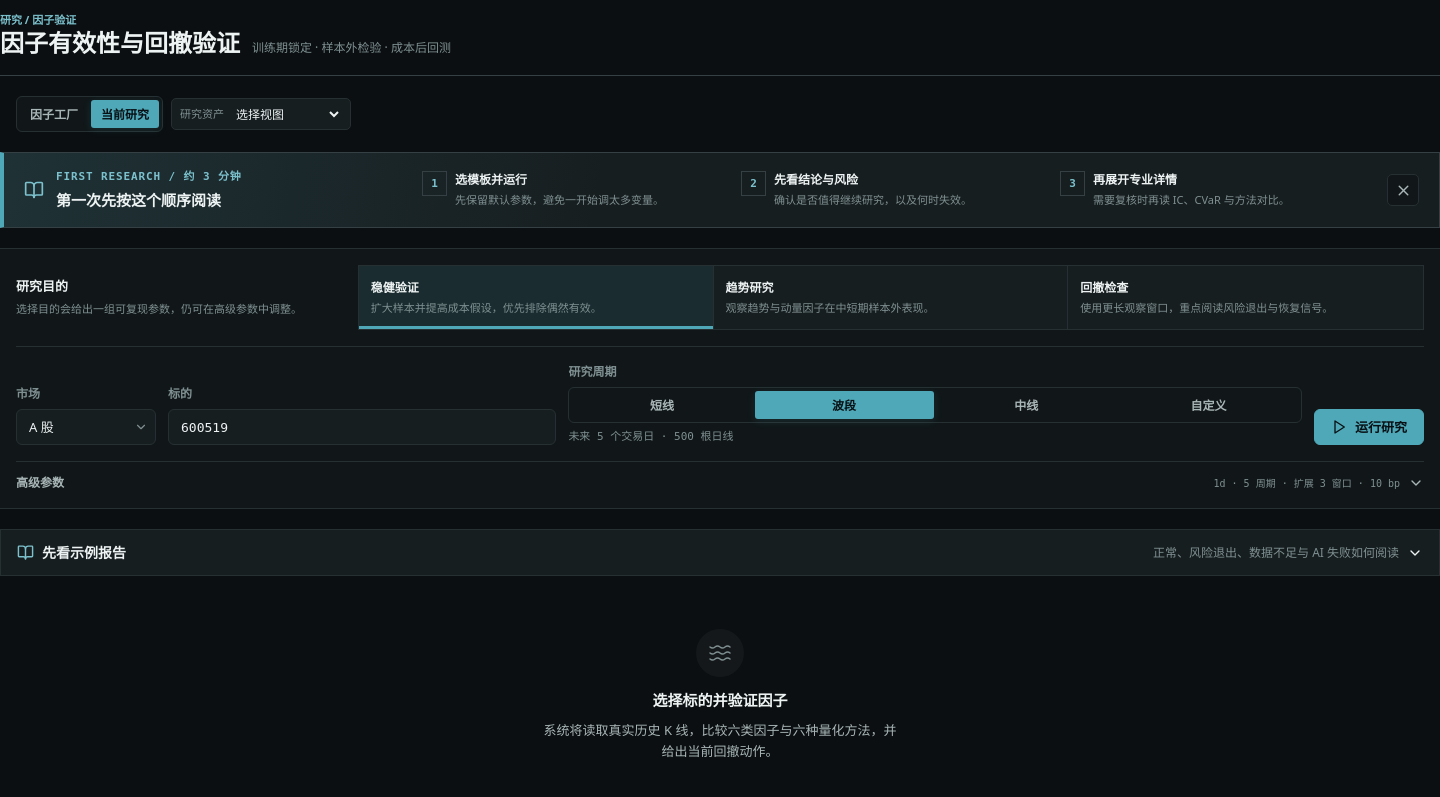
it: FactorResearchPage › lists saved factor runs and restores a complete result
Step 1. Select "历史记录" in the dropdown labelled "研究资产" → x=287, y=114, box left=232, top=104, right=342, bottom=124
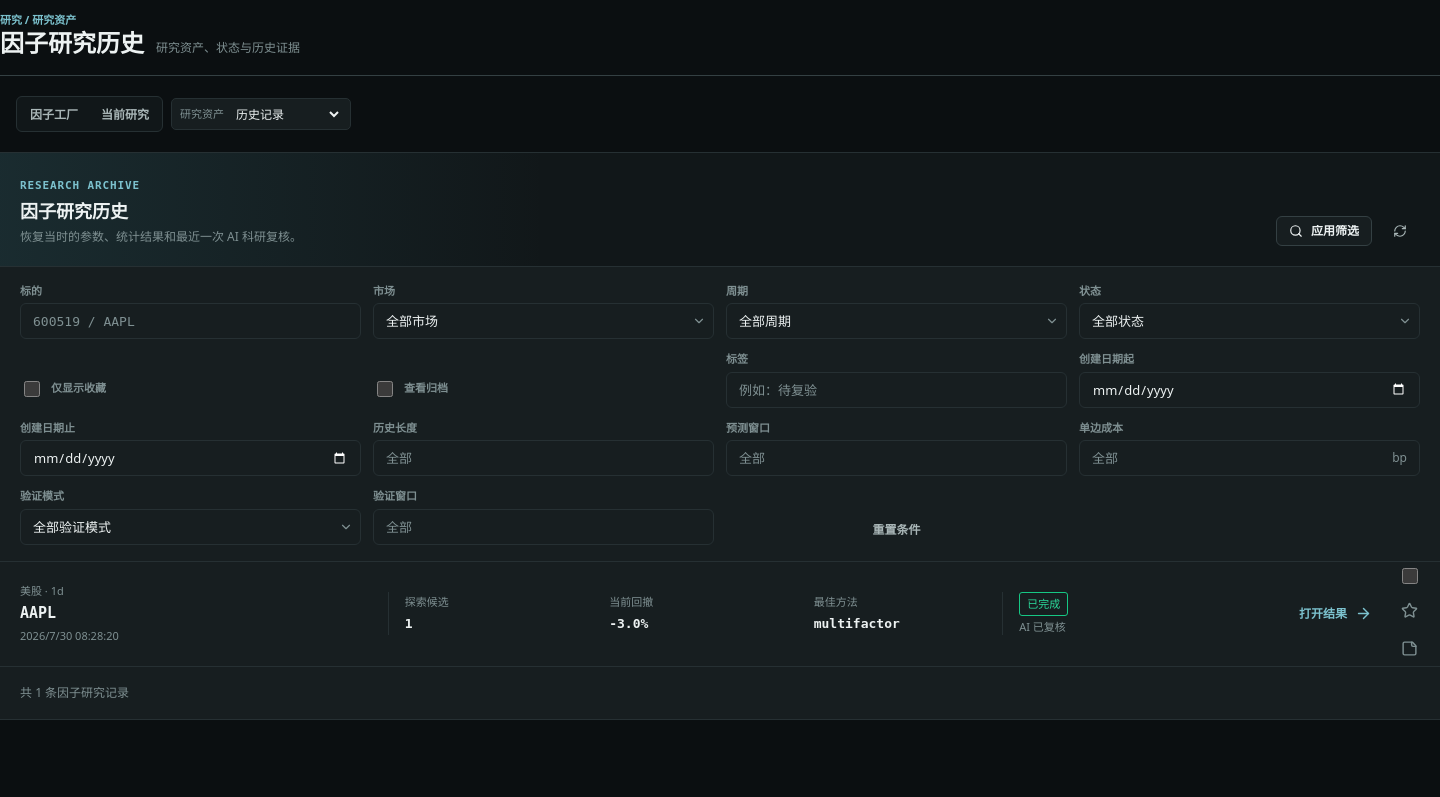
Result: the element named "因子研究历史记录" is shown
Step 2. Click the button that starts with "AAPL" → x=696, y=614, box left=0, top=562, right=1392, bottom=666
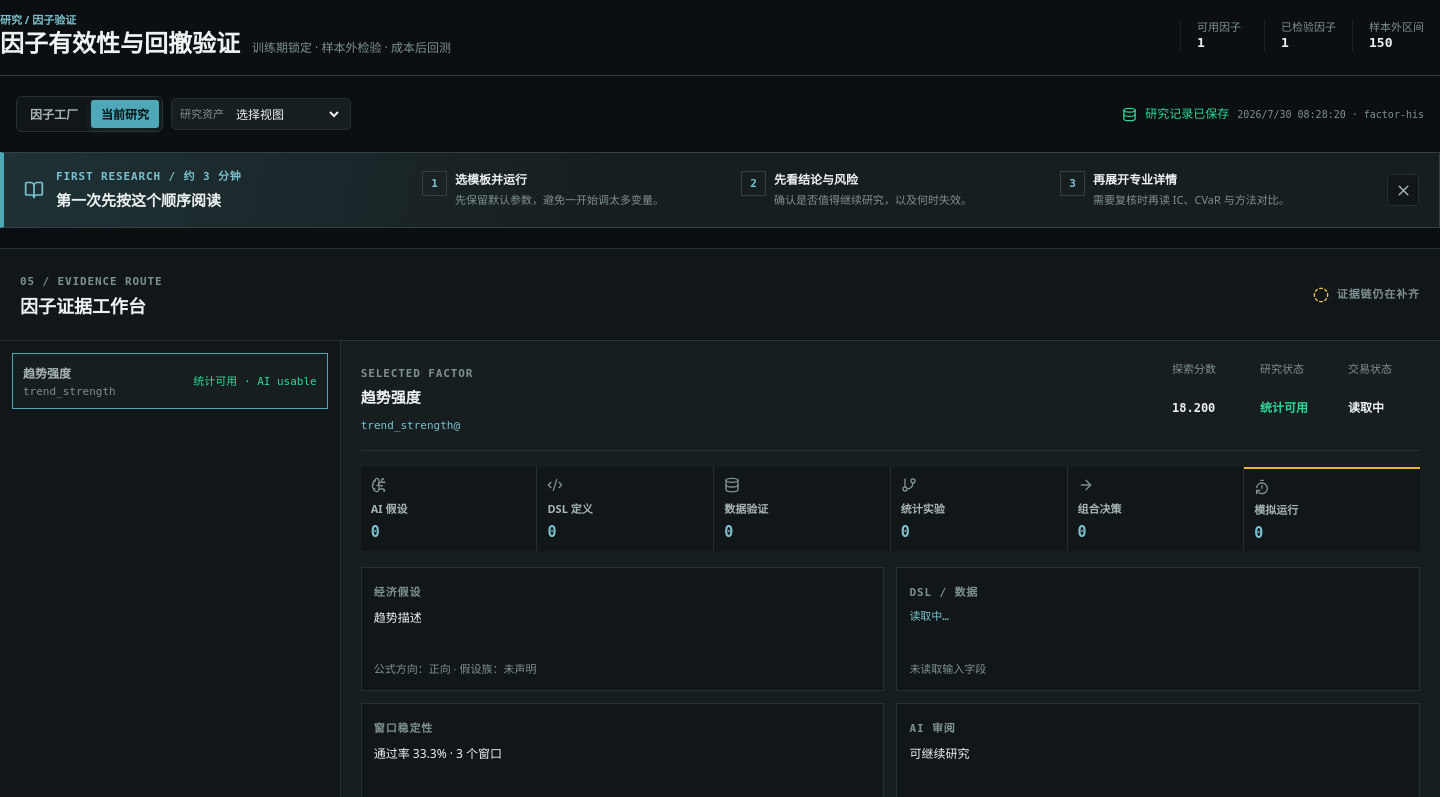
Result: the text "研究记录已保存" is shown at left=1145, top=105, right=1229, bottom=123
